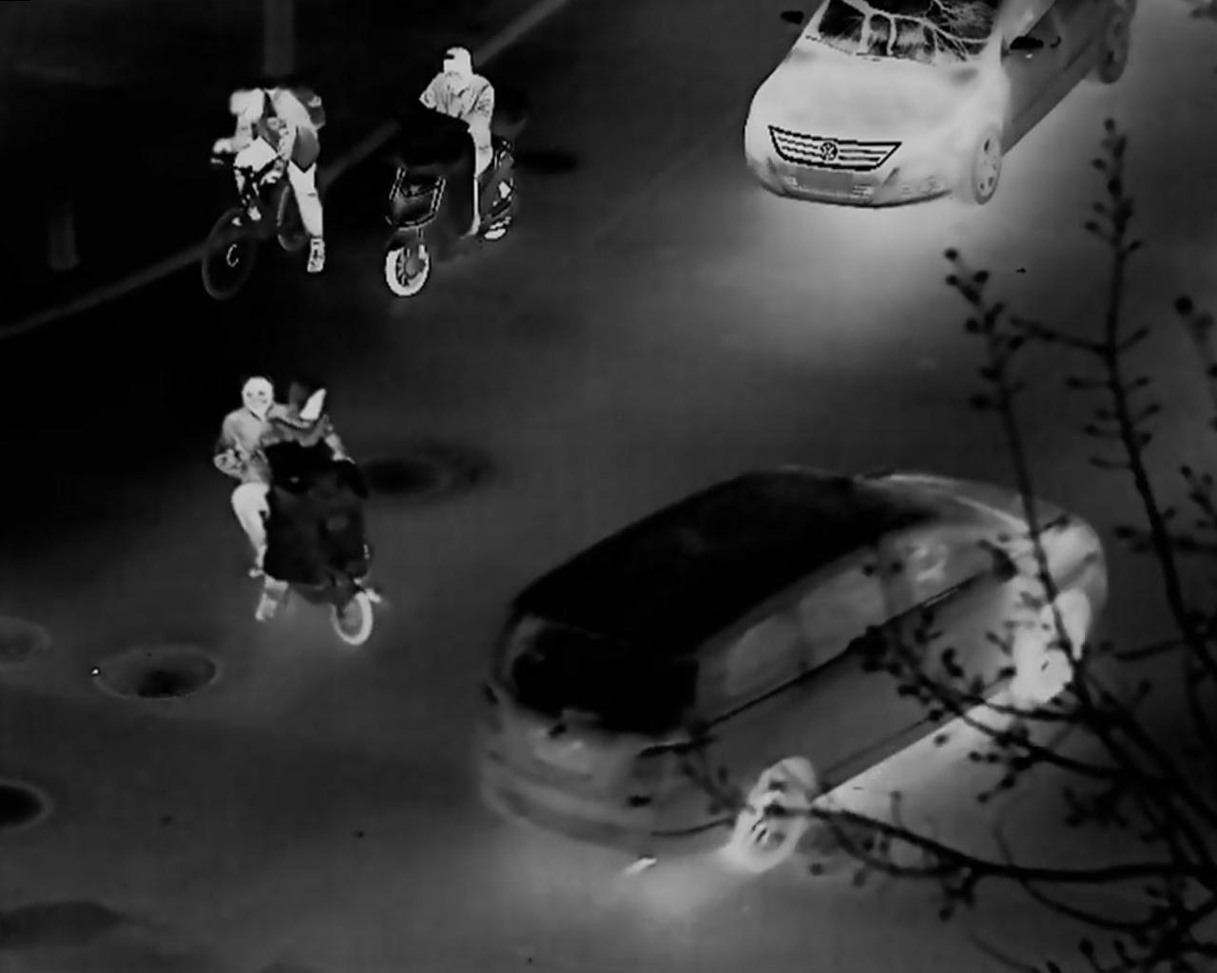person: (210, 80, 331, 274), (213, 369, 289, 580), (417, 40, 494, 237), (263, 375, 351, 460)
